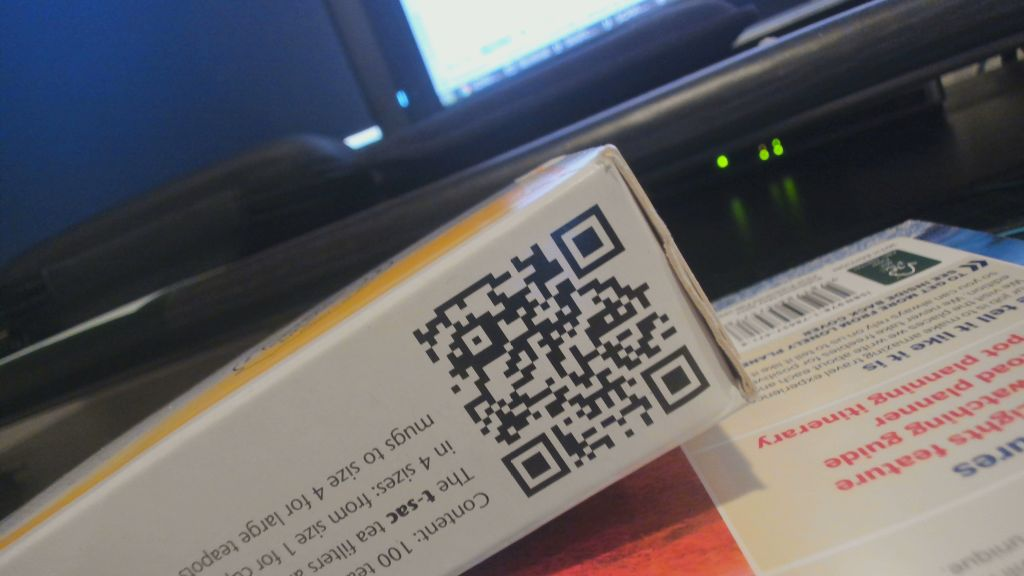QR_CODE: (395, 192, 727, 508)
